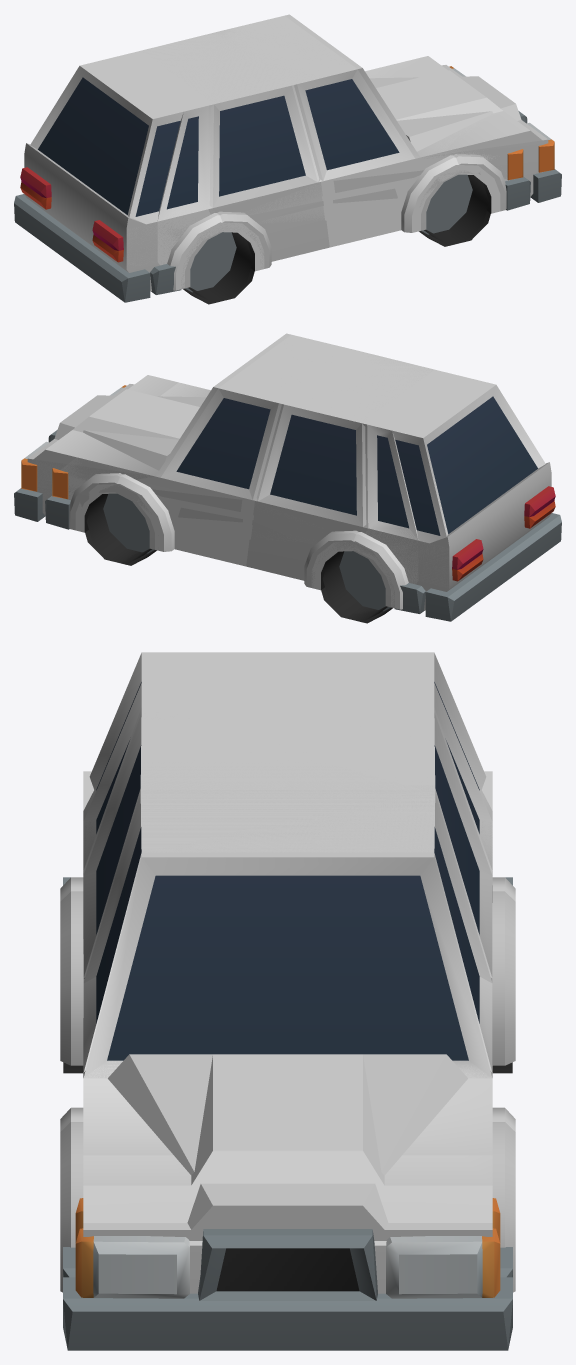
The model's file is carros.glb.
3 renders of one model, top to bottom at view 1: azimuth 30°, elevation 25°; view 2: azimuth 150°, elevation 25°; view 3: azimuth 270°, elevation 25°, orthographic. The views are drawn at different scales.
Visible parts, largest first — view 1: hatch_corpo, sedan_corpo, hatch_neutro, sedan_neutro, perua_corpo, perua_neutro; view 2: hatch_corpo, sedan_corpo, perua_corpo, hatch_neutro, sedan_neutro, perua_neutro; view 3: sedan_neutro, sedan_corpo, hatch_corpo, perua_corpo, hatch_neutro.
Boxes of the visible parts, left/top/right/bottom form: hatch_corpo: left=111, top=15, right=509, bottom=290; sedan_corpo: left=24, top=14, right=548, bottom=291; hatch_neutro: left=150, top=95, right=530, bottom=304; sedan_neutro: left=14, top=66, right=561, bottom=302; perua_corpo: left=30, top=51, right=541, bottom=267; perua_neutro: left=38, top=77, right=198, bottom=216; hatch_corpo: left=61, top=334, right=464, bottom=609; sedan_corpo: left=27, top=333, right=551, bottom=610; perua_corpo: left=31, top=370, right=545, bottom=587; hatch_neutro: left=45, top=414, right=425, bottom=623; sedan_neutro: left=14, top=385, right=561, bottom=622; perua_neutro: left=90, top=396, right=537, bottom=619; sedan_neutro: left=63, top=745, right=512, bottom=1350; sedan_corpo: left=60, top=712, right=515, bottom=1292; hatch_corpo: left=60, top=682, right=515, bottom=1155; perua_corpo: left=83, top=652, right=492, bottom=1293; hatch_neutro: left=63, top=740, right=512, bottom=1277.
Size of the model in its own units: 4.22 by 1.64 by 1.89.
